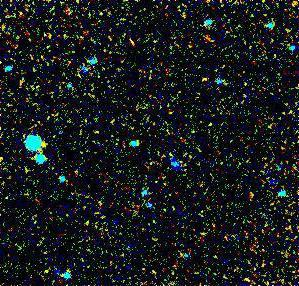star: (29, 130, 59, 160)
